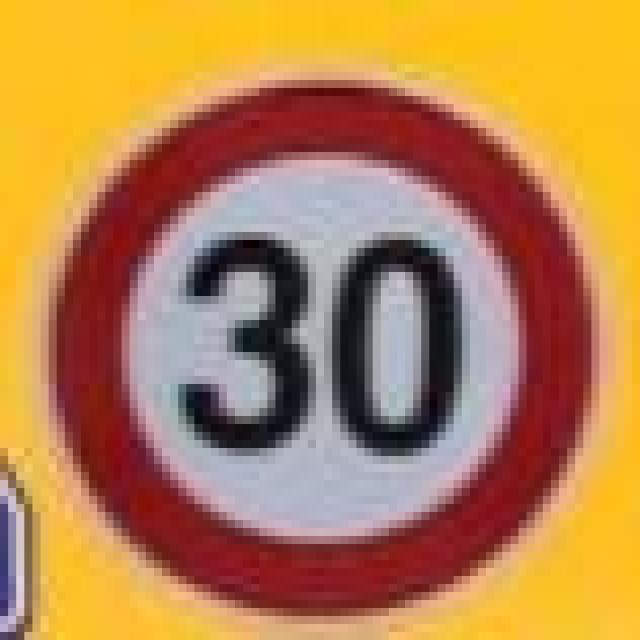speed_limit_30: (41, 72, 592, 616)
